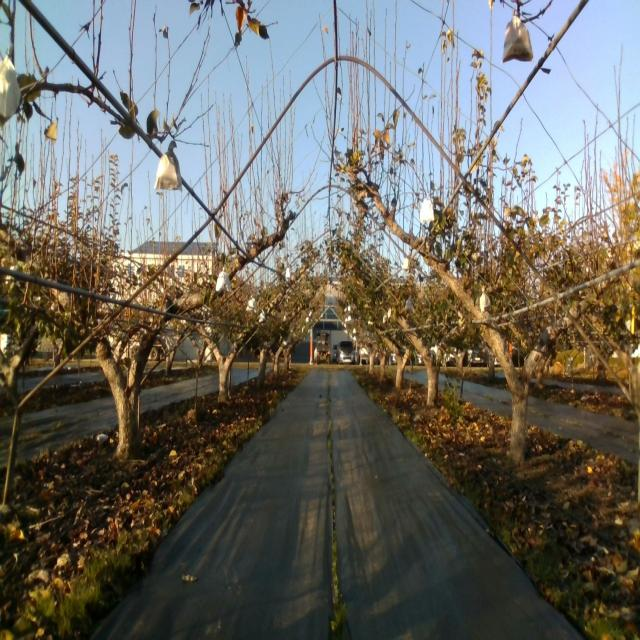pearbags: (501, 9, 534, 62), (0, 41, 22, 118), (154, 146, 182, 193), (419, 194, 434, 224), (216, 266, 232, 292), (479, 286, 492, 312), (246, 294, 257, 314)
